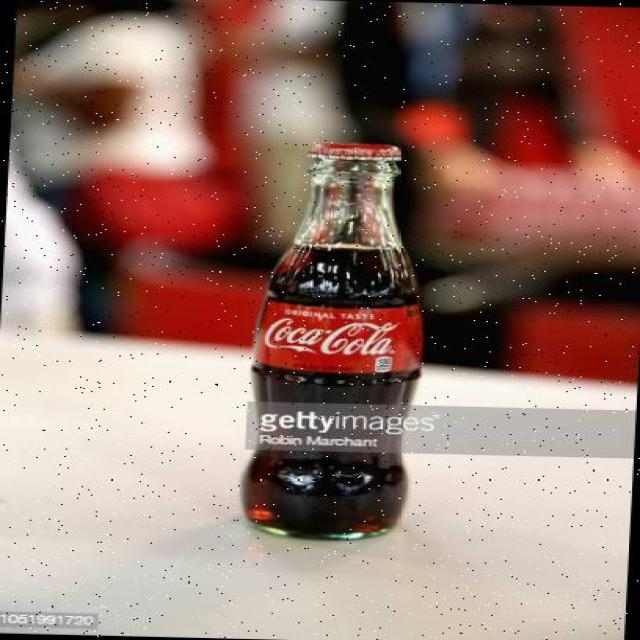coca-cola: (232, 131, 444, 546)
